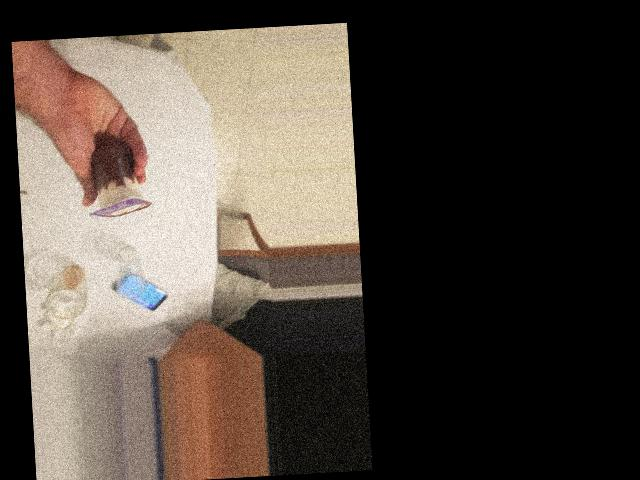milky: (165, 177, 257, 242)
